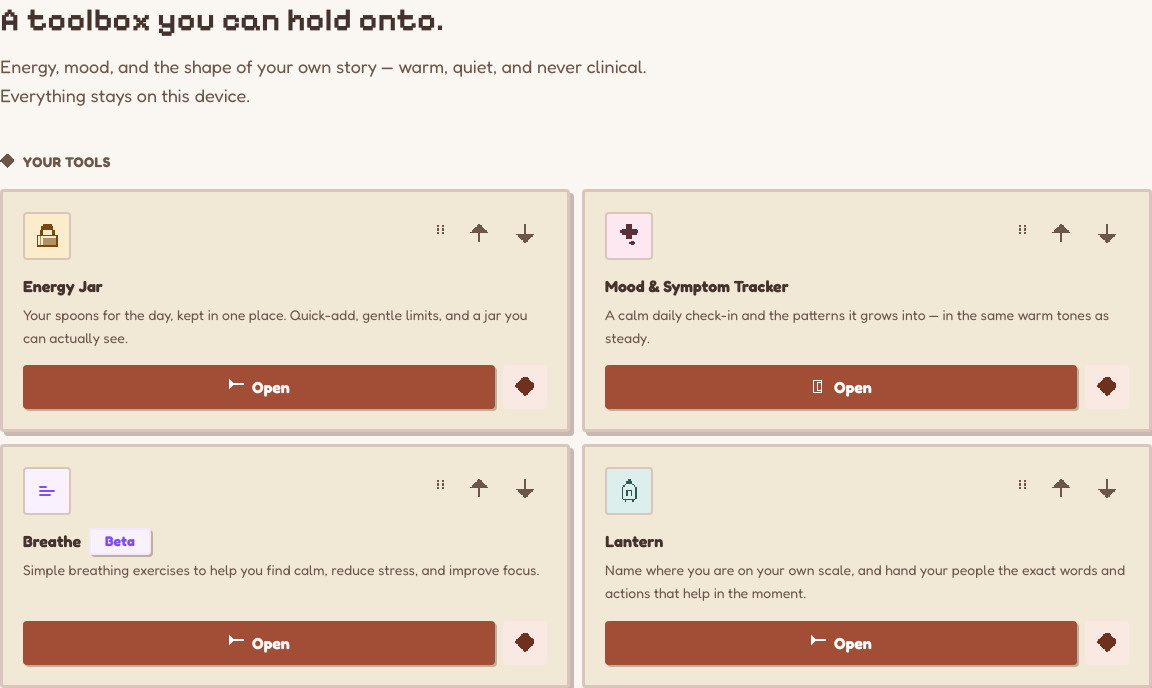
Scenario: HubHome › up/down buttons reorder
This screenshot has width=1152, height=688.
Check: the heading "Energy Jar" is shown, box [23,276,103,296]
Click the button named "Move Energy Jar down" at (525,234), box [503,212,547,256]
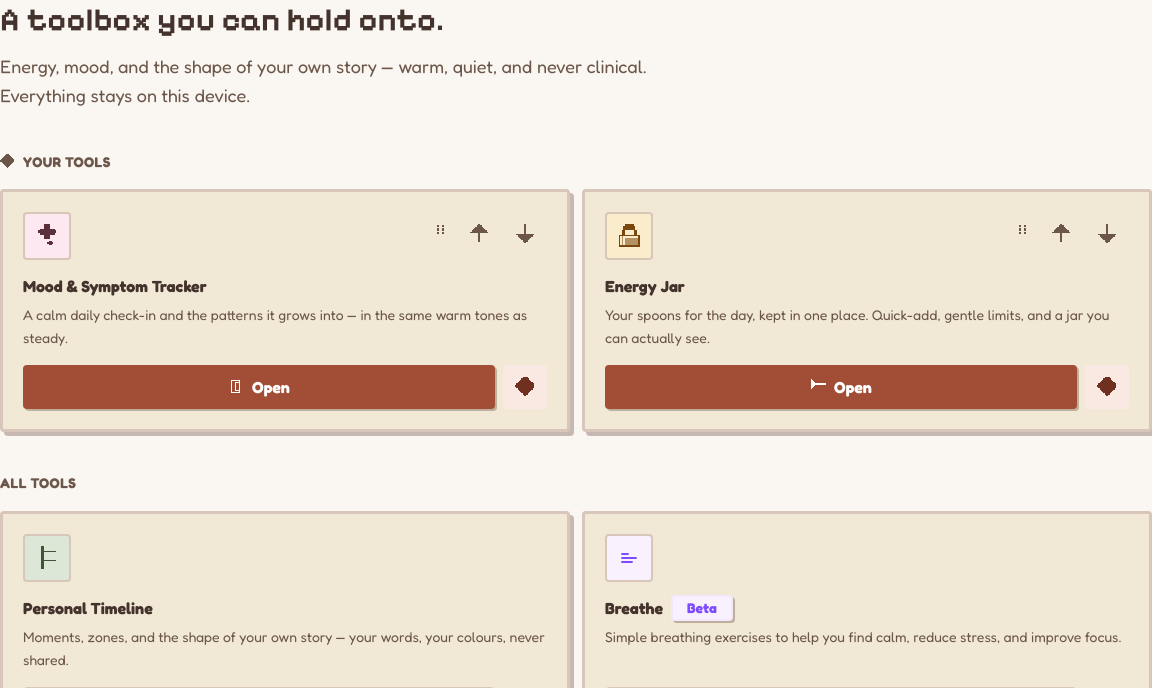
Check: the headings read "Mood & Symptom Tracker", "Energy Jar", in this order, box [23,276,207,296]; [605,276,685,296]
